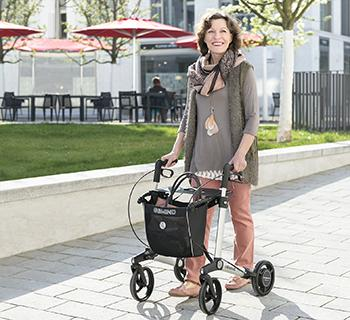walking_frame: (128, 13, 275, 315)
